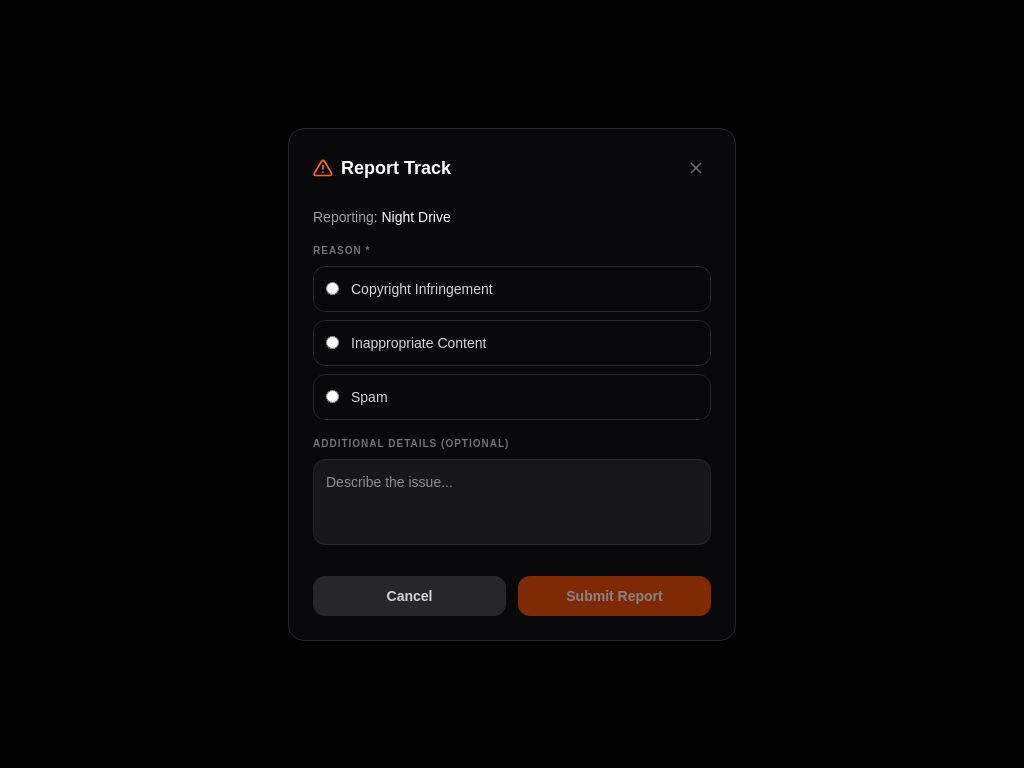
Test: ReportModal › error handling › shows DUPLICATE_REPORT specific message
The image size is (1024, 768).
Click the radio button showing "SPAM": (332, 396) [326,390,339,403]
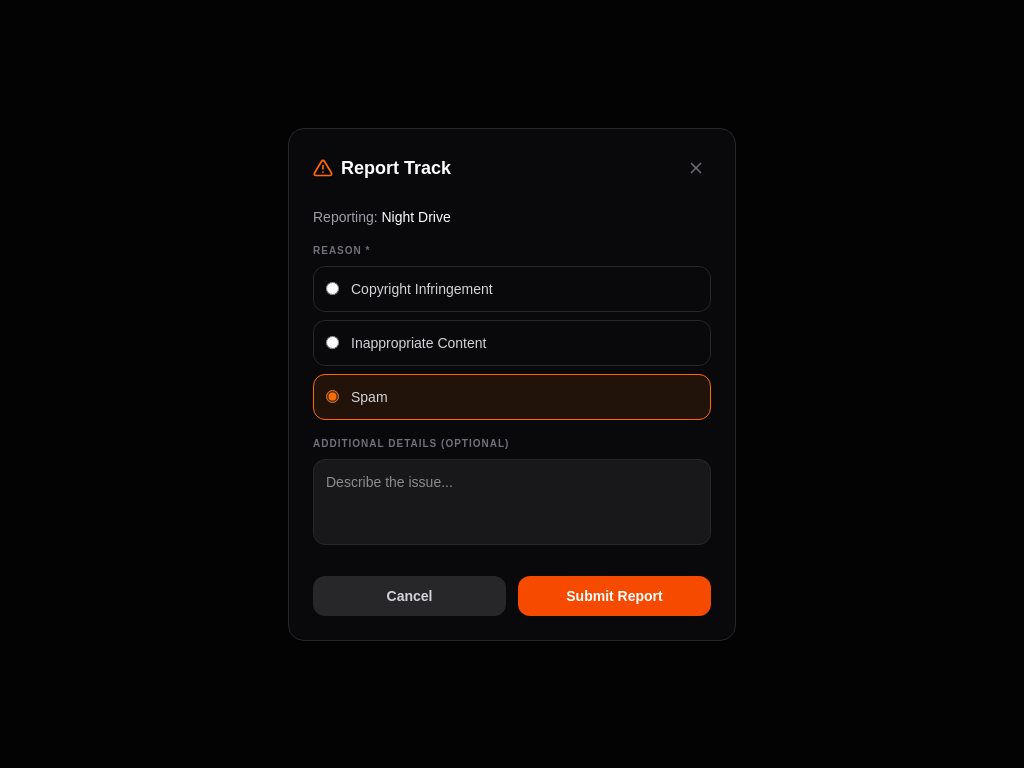
Click the button "Submit Report": (614, 596) [518,576,711,616]
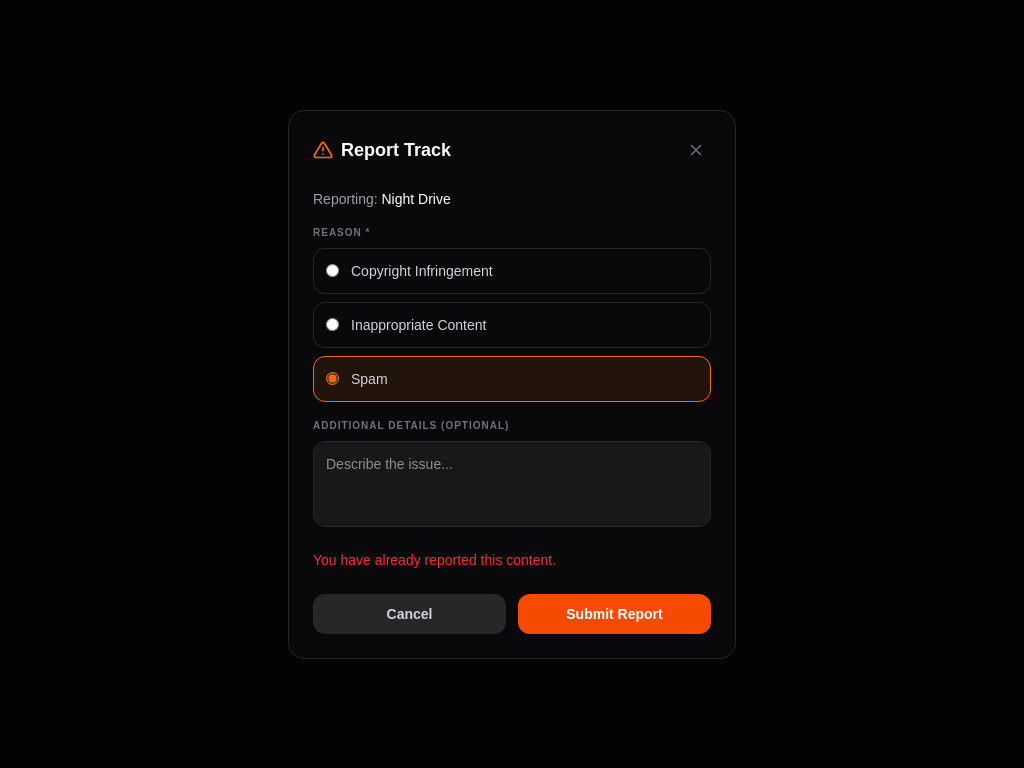
Expected: the text "You have already reported this content." is shown, [313,552,556,568]
